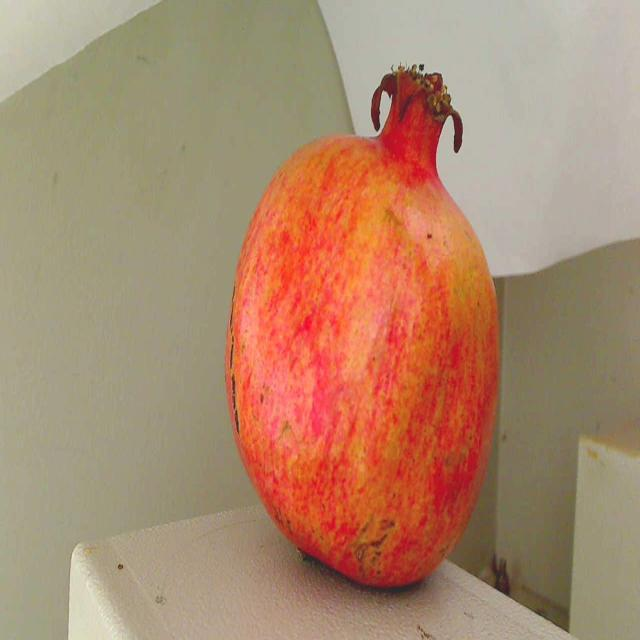pomegranate: (219, 47, 513, 598)
